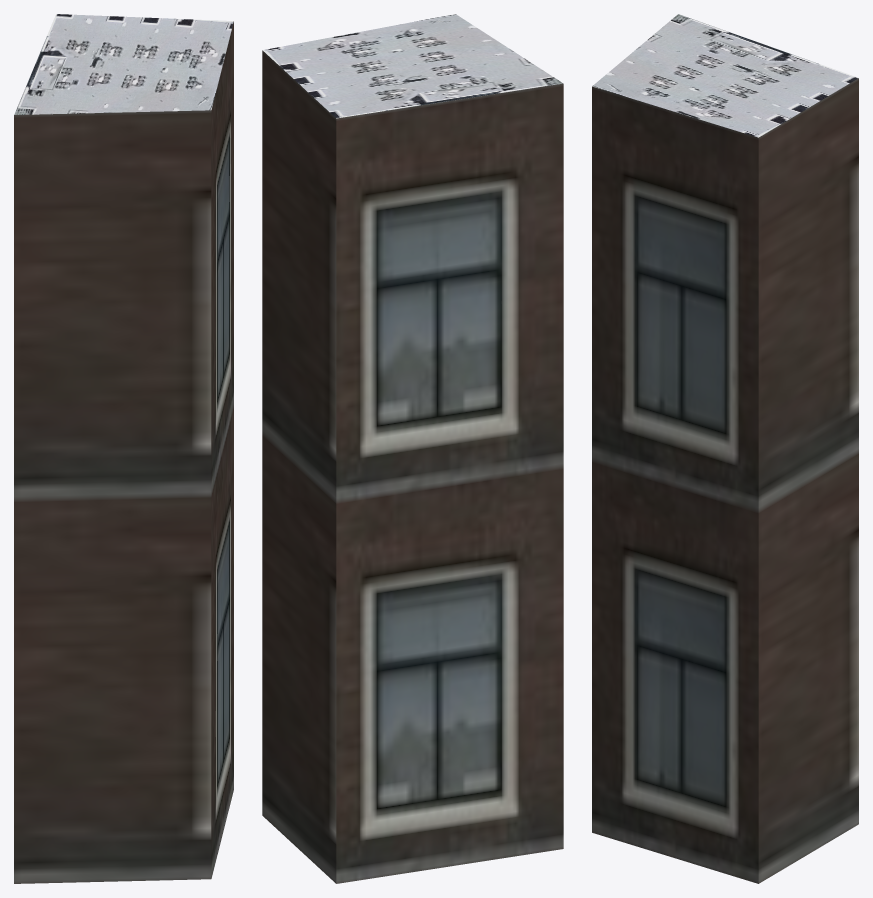
File: ResTex__3820.fbx
The picture shows the model from 3 angles, left to right: view 1: azimuth 30°, elevation 25°; view 2: azimuth 150°, elevation 25°; view 3: azimuth 270°, elevation 25°; orthographic projection. The views are drawn at different scales.
Visible parts, largest first — view 1: CityEngineMaterial_16_m, CityEngineMaterial_15_m; view 2: CityEngineMaterial_16_m, CityEngineMaterial_15_m; view 3: CityEngineMaterial_16_m, CityEngineMaterial_15_m.
Part boxes in pixels (x1,y1,x2,y2): CityEngineMaterial_16_m: (14, 21, 233, 883); CityEngineMaterial_15_m: (14, 14, 233, 114); CityEngineMaterial_16_m: (262, 50, 563, 883); CityEngineMaterial_15_m: (262, 14, 563, 118); CityEngineMaterial_16_m: (592, 78, 858, 883); CityEngineMaterial_15_m: (592, 14, 858, 137).
Bounding box in the file's own units: 2.13 × 6 × 1.95.
Materials: 2 (2 with a texture image).
